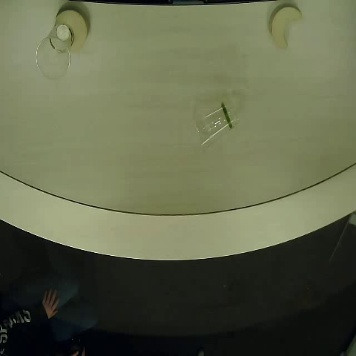empty_cup: (193, 102, 240, 151), (35, 22, 74, 78)
puck: (56, 9, 87, 52), (270, 6, 301, 49)
